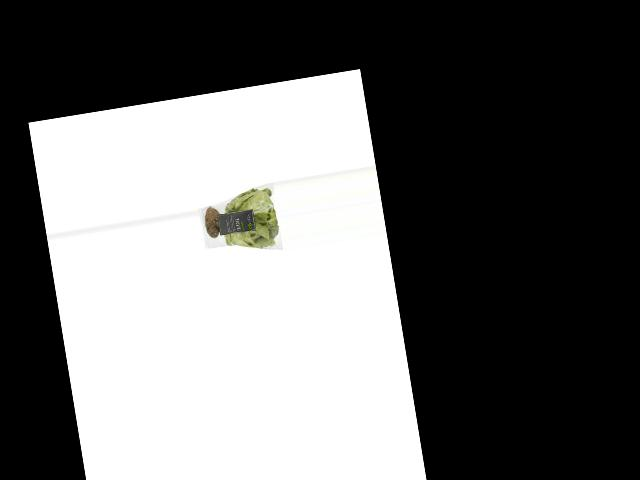lettuce: (196, 183, 282, 260)
